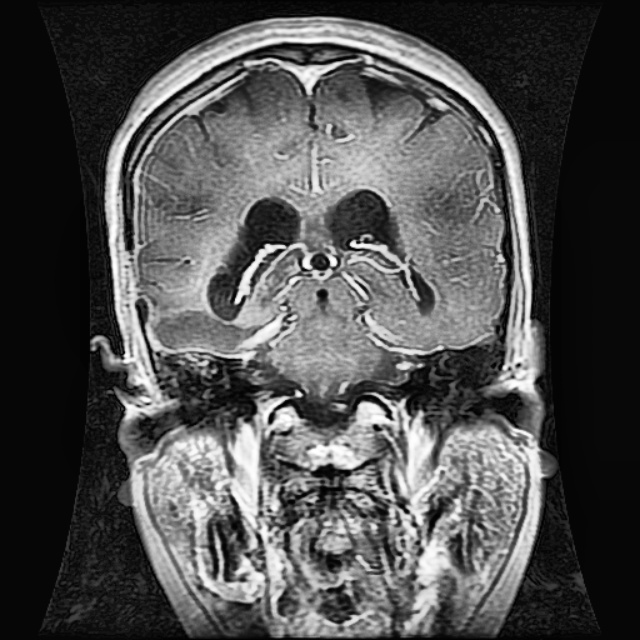Meningioma: (150, 307, 285, 355)
